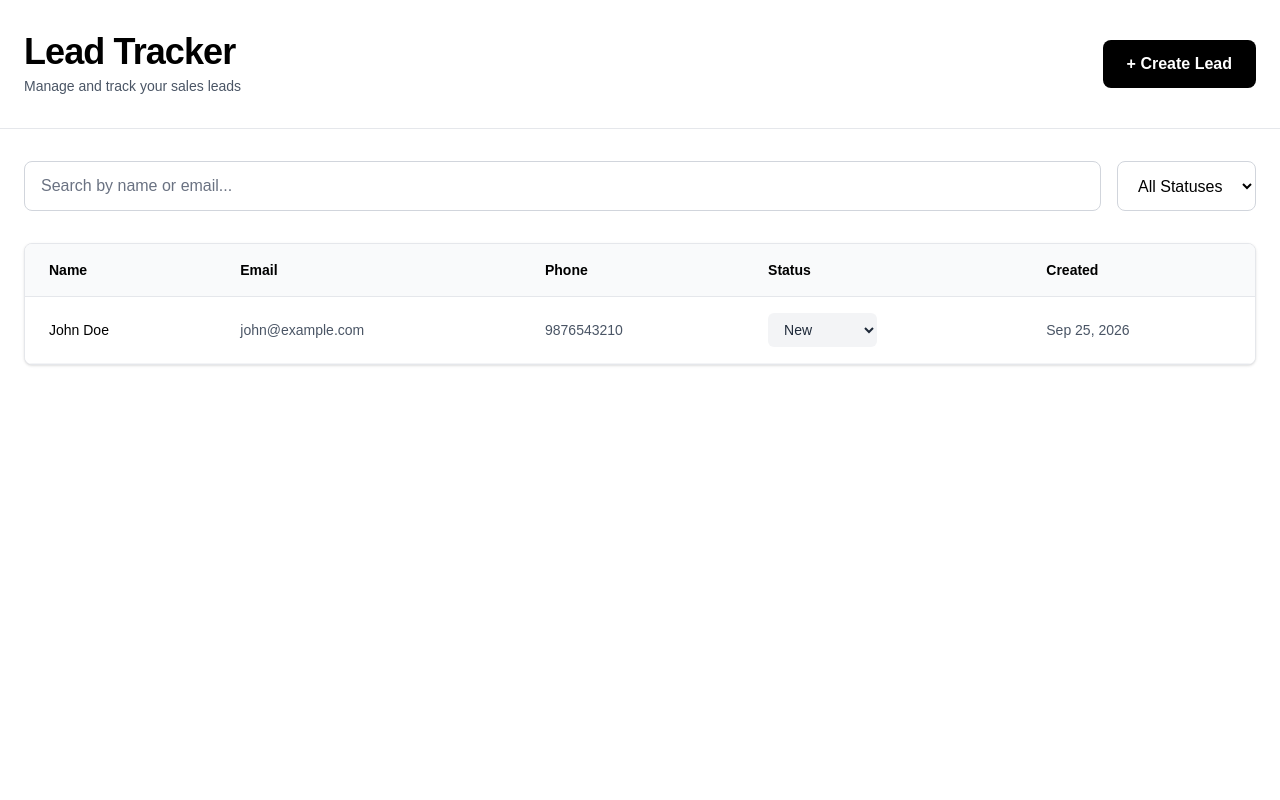
Test case: Lead Tracker page › creates a lead, hides the form and refreshes the list
This screenshot has width=1280, height=800.
Expected: the text "John Doe" is shown, [25,296,216,364]
Click the button "+ Create Lead". click: click(1179, 64)
box: [1103,40,1256,88]
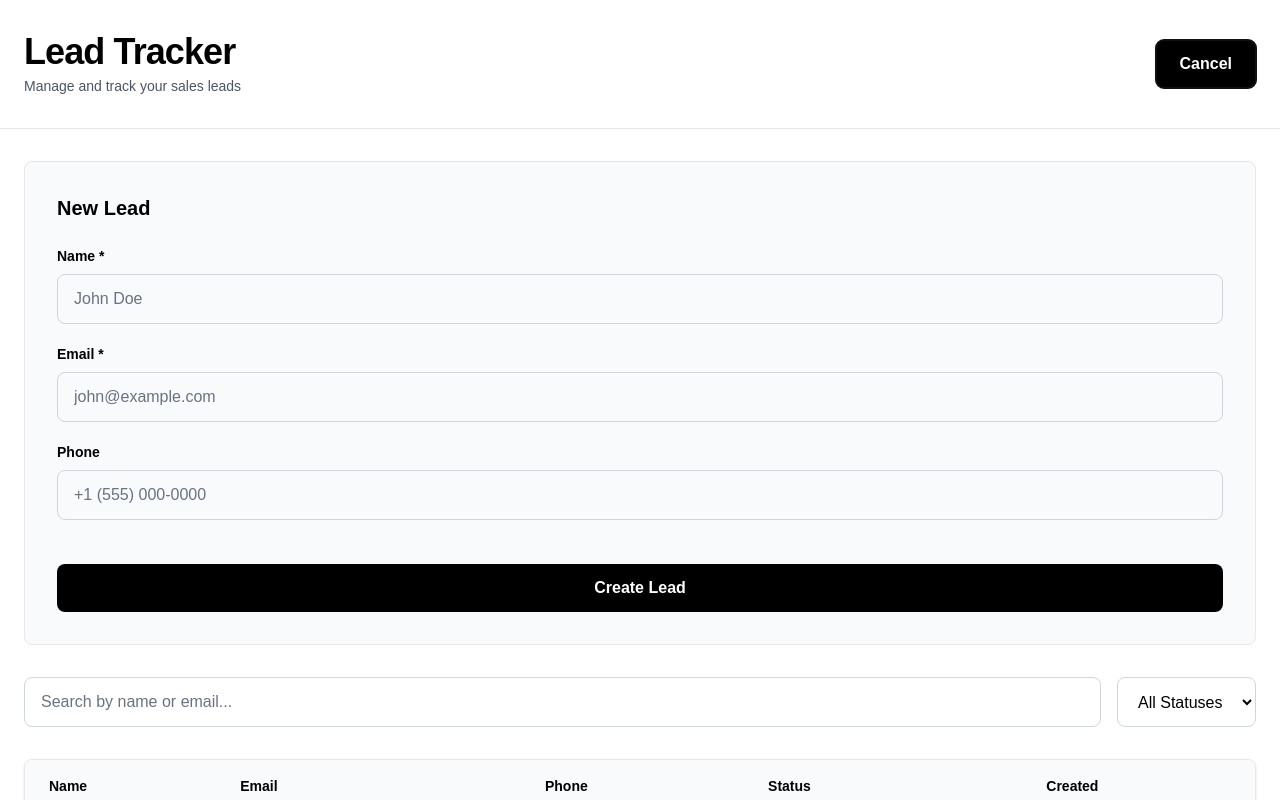
Type "Jane Foster" into the field labelled "Name *". click: (640, 299)
box: [57,274,1223,324]
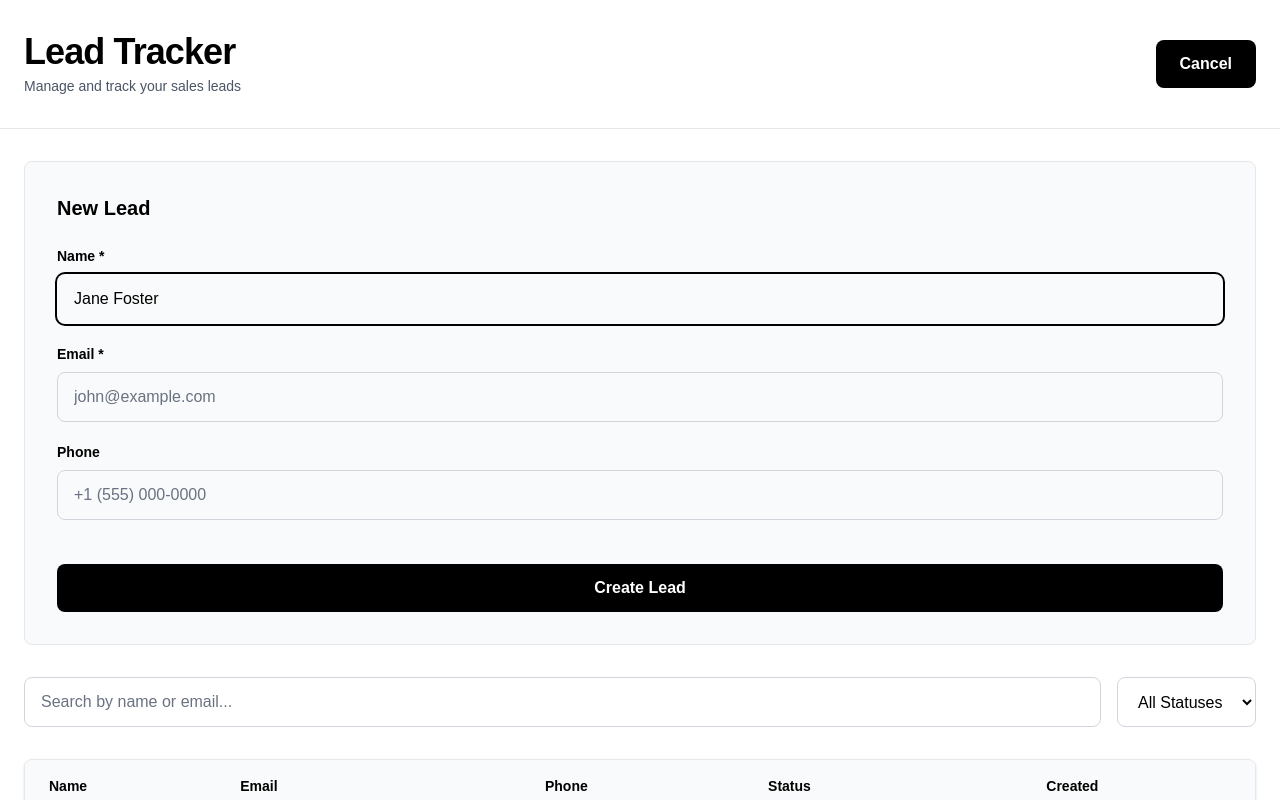
Type "jane@example.com" into the field labelled "Email *". click: (640, 397)
box: [57,372,1223,422]
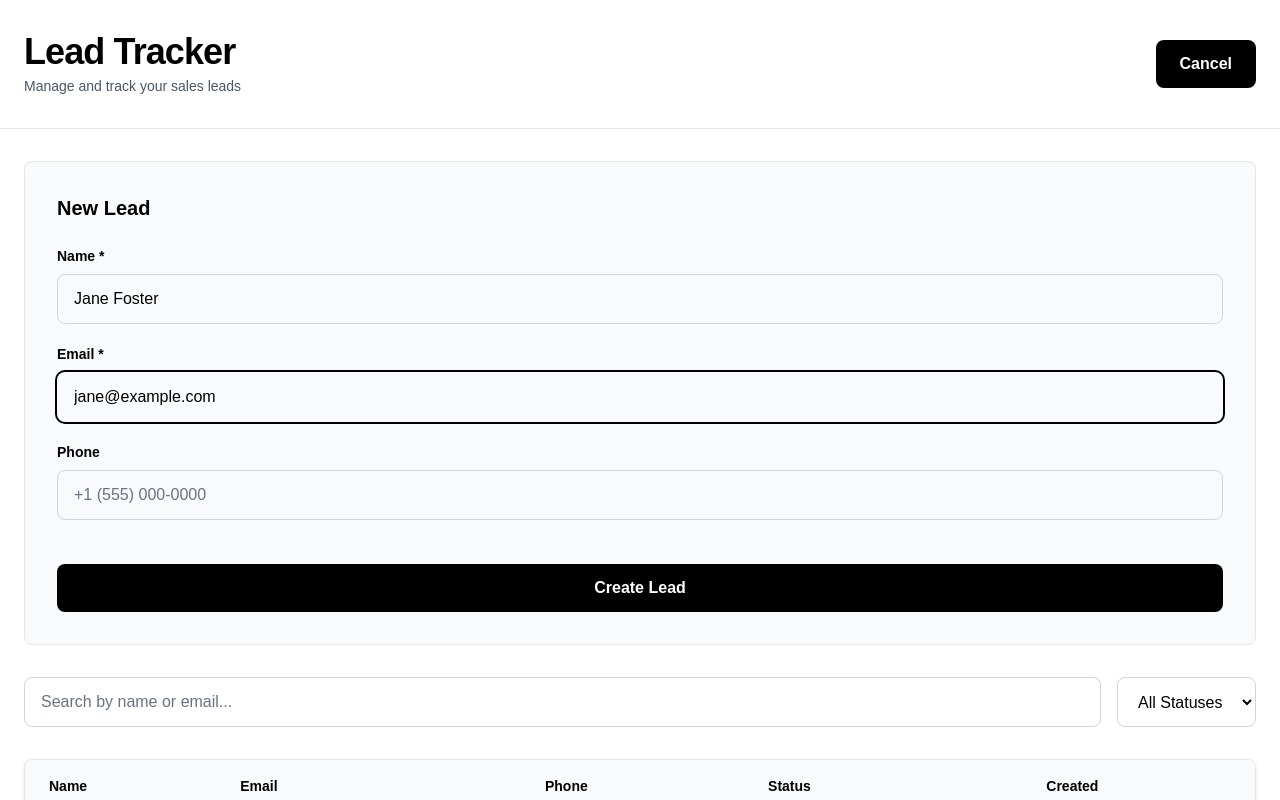
Click the button "Create Lead". click: click(640, 588)
box: [57,564,1223,612]
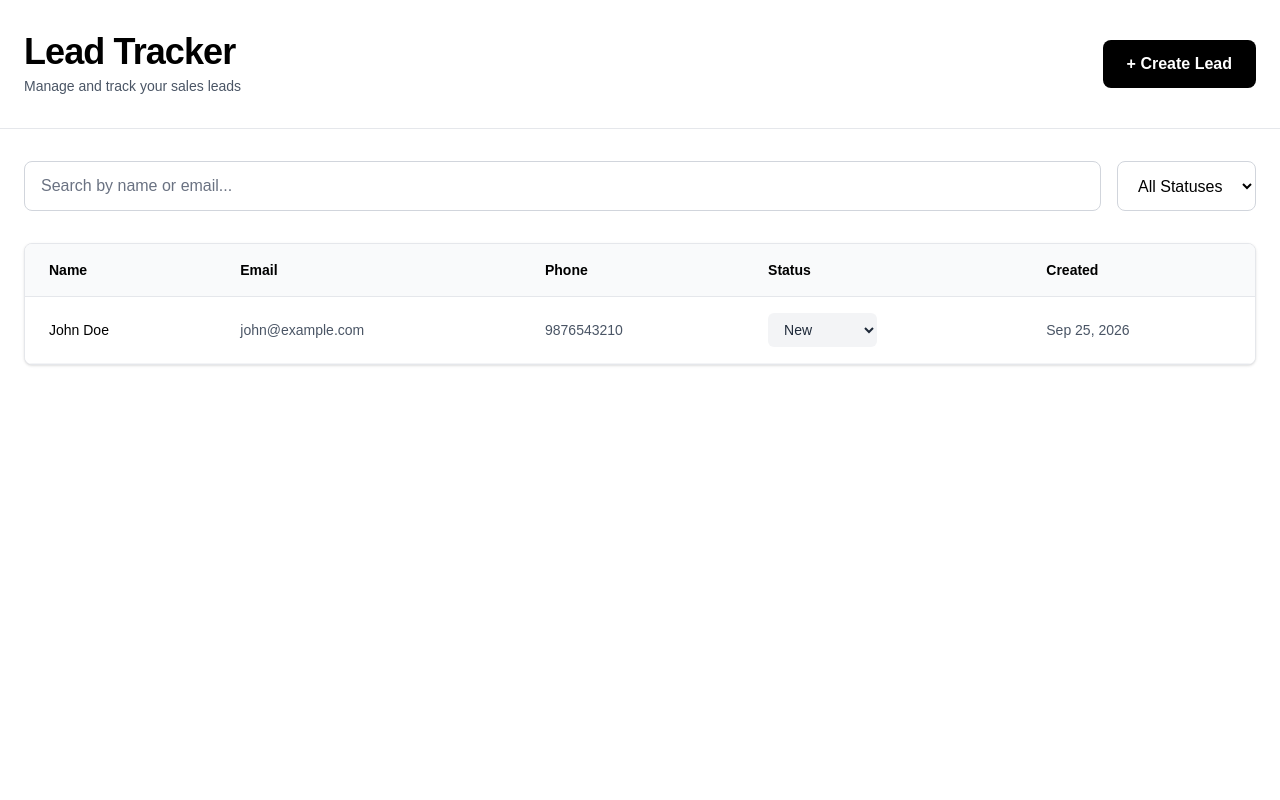
Result: the heading "New Lead" is gone
